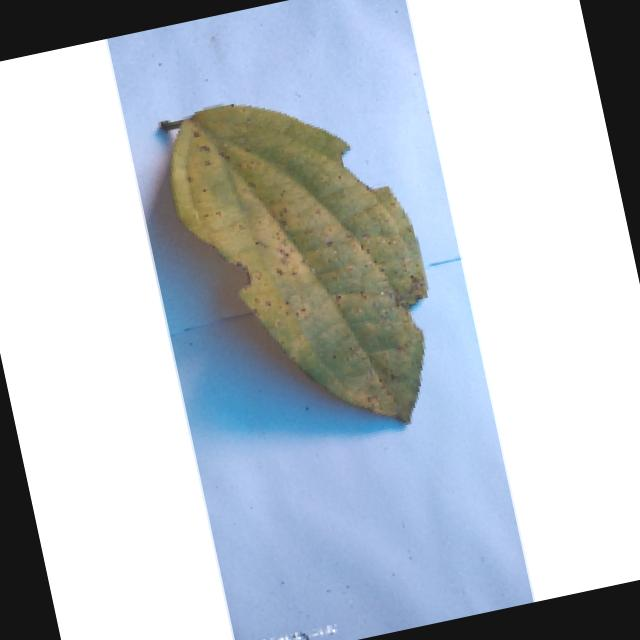slow-decline: (152, 66, 460, 460)
